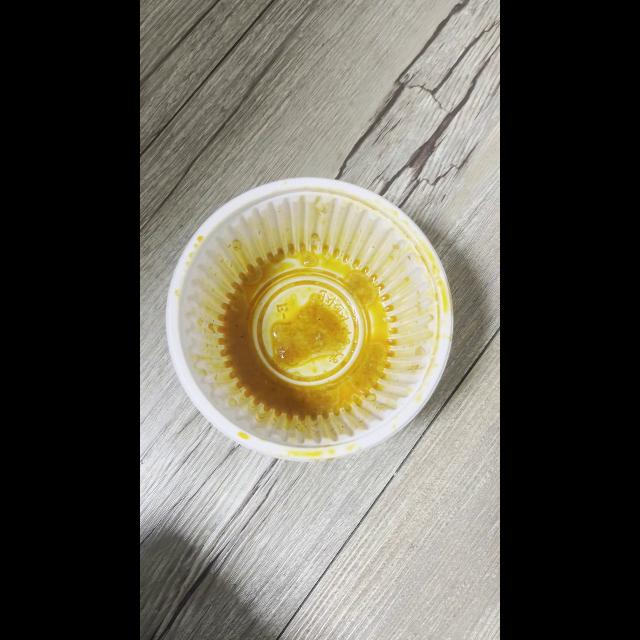dirty: (166, 180, 452, 452)
